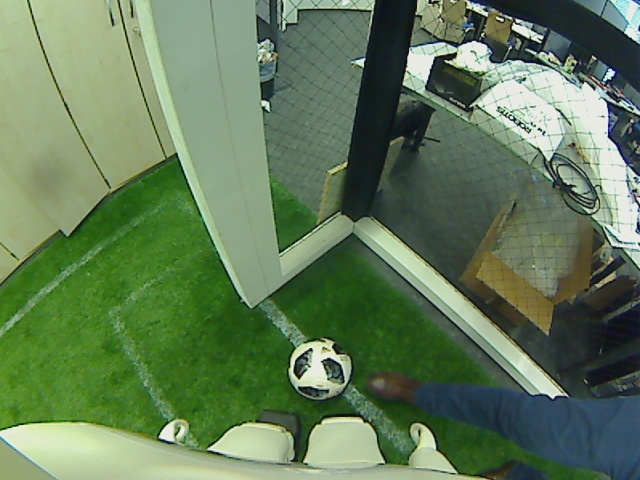ball: (284, 337, 351, 403)
